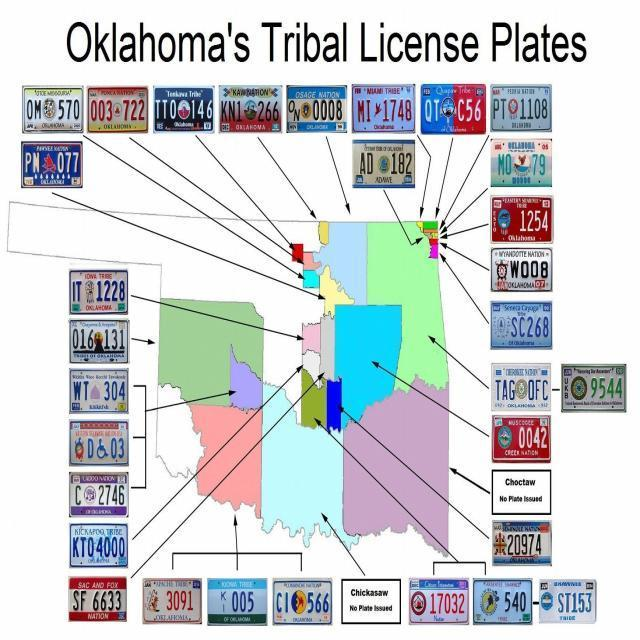License_Plate: (351, 138, 418, 186), (349, 86, 417, 132), (420, 84, 485, 132), (489, 194, 554, 242), (152, 85, 215, 134), (489, 363, 552, 412), (490, 302, 552, 351), (489, 138, 552, 186), (205, 576, 268, 624), (218, 86, 281, 133), (286, 86, 348, 133), (565, 364, 627, 411), (22, 86, 84, 133), (489, 84, 552, 130), (142, 578, 203, 625), (490, 248, 552, 294), (269, 578, 331, 624), (66, 524, 130, 568), (471, 579, 532, 625), (66, 577, 128, 622), (66, 269, 128, 314), (68, 320, 128, 366), (68, 368, 128, 414), (68, 420, 128, 466), (490, 416, 550, 462), (68, 473, 130, 517), (88, 86, 147, 132), (490, 524, 551, 568), (22, 142, 82, 186), (408, 578, 470, 620), (536, 579, 596, 622)
